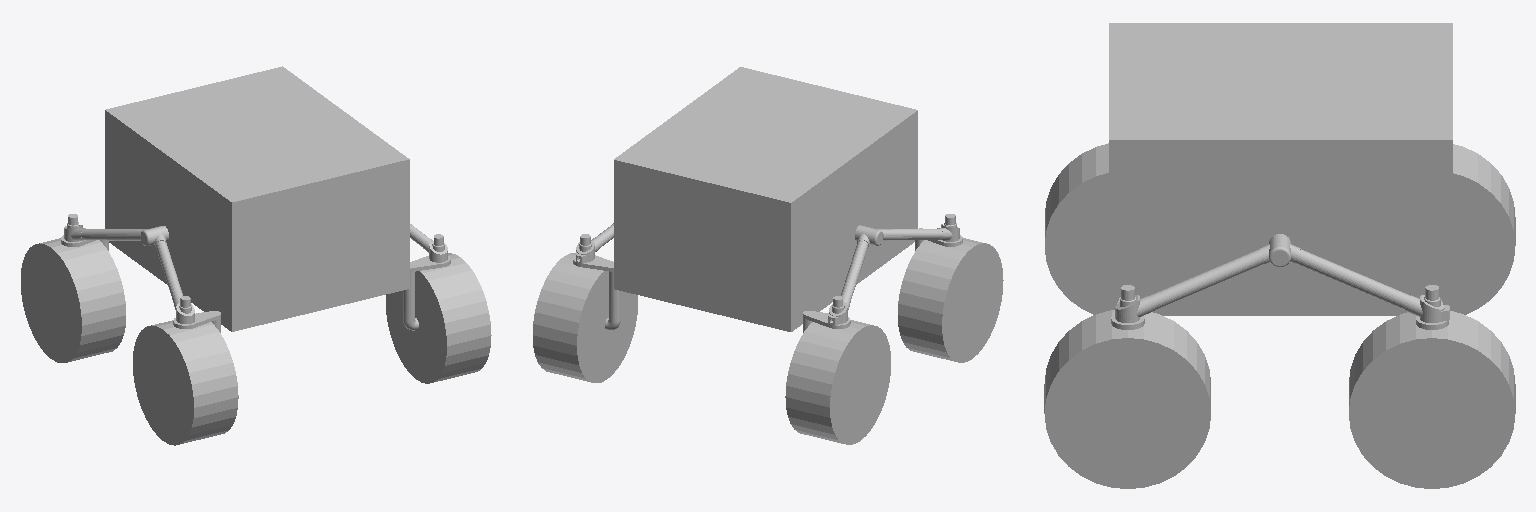
robot.urdf — rover:
<?xml version='1.0'?>
<robot name="rover" version="1.0">
  <joint name="Back Left Wheel Connection_link_joint" type="continuous">
    <limit lower="0" upper="0" effort="0.000000" velocity="0.000000"/>
    <origin rpy="-0.000000 1.570796 0.000000" xyz="-0.040213 0.277630 -0.040843"/>
    <parent link="Left_Rocker_link"/>
    <child link="Back_Left_Wheel_Connection_link"/>
    <axis xyz="0.000000 0.000000 1.000000"/>
  </joint>
  <joint name="Back Left Wheel_link_joint" type="continuous">
    <limit lower="0" upper="0" effort="0.000000" velocity="0.000000"/>
    <origin rpy="0.000000 -1.570796 0.000000" xyz="-0.000277 -0.000140 -0.224216"/>
    <parent link="Back_Left_Wheel_Connection_link"/>
    <child link="Back_Left_Wheel_link"/>
    <axis xyz="0.000000 0.000000 1.000000"/>
  </joint>
  <joint name="Back Right Wheel_link_joint" type="continuous">
    <limit lower="0" upper="0" effort="0.000000" velocity="0.000000"/>
    <origin rpy="0.000000 -1.570796 0.000000" xyz="-0.001001 -0.000072 -0.224364"/>
    <parent link="Back_right_Wheel_Connection_link"/>
    <child link="Back_Right_Wheel_link"/>
    <axis xyz="0.000000 0.000000 1.000000"/>
  </joint>
  <joint name="Back right Wheel Connection_link_joint" type="continuous">
    <limit lower="0" upper="0" effort="0.000000" velocity="0.000000"/>
    <origin rpy="-0.000000 1.570796 0.000000" xyz="-0.039199 0.277668 0.039794"/>
    <parent link="Right_Rocker_link"/>
    <child link="Back_right_Wheel_Connection_link"/>
    <axis xyz="0.000000 0.000000 1.000000"/>
  </joint>
  <joint name="Front Left Wheel Connection_link_joint" type="continuous">
    <limit lower="0" upper="0" effort="0.000000" velocity="0.000000"/>
    <origin rpy="-0.000000 1.570796 0.000000" xyz="-0.040213 -0.279250 -0.041051"/>
    <parent link="Left_Rocker_link"/>
    <child link="Front_Left_Wheel_Connection_link"/>
    <axis xyz="0.000000 0.000000 1.000000"/>
  </joint>
  <joint name="Front Left Wheel_link_joint" type="continuous">
    <limit lower="0" upper="0" effort="0.000000" velocity="0.000000"/>
    <origin rpy="0.000000 -1.570796 0.000000" xyz="-0.000405 0.000234 -0.224593"/>
    <parent link="Front_Left_Wheel_Connection_link"/>
    <child link="Front_Left_Wheel_link"/>
    <axis xyz="0.000000 0.000000 1.000000"/>
  </joint>
  <joint name="Front Right Wheel Connection_link_joint" type="continuous">
    <limit lower="0" upper="0" effort="0.000000" velocity="0.000000"/>
    <origin rpy="-0.000000 1.570796 0.000000" xyz="-0.039199 -0.279811 0.039779"/>
    <parent link="Right_Rocker_link"/>
    <child link="Front_Right_Wheel_Connection_link"/>
    <axis xyz="0.000000 0.000000 1.000000"/>
  </joint>
  <joint name="Front Right Wheel_link_joint" type="continuous">
    <limit lower="0" upper="0" effort="0.000000" velocity="0.000000"/>
    <origin rpy="-0.000000 -1.570796 0.000000" xyz="-0.001015 0.000984 -0.224364"/>
    <parent link="Front_Right_Wheel_Connection_link"/>
    <child link="Front_Right_Wheel_link"/>
    <axis xyz="0.000000 0.000000 1.000000"/>
  </joint>
  <joint name="Left Rocker_link_joint" type="revolute">
    <limit lower="-1.000000" upper="1.000000" effort="0.000000" velocity="0.000000"/>
    <origin rpy="0.000000 -1.570796 0.000000" xyz="0.316939 0.035009 -0.031693"/>
    <parent link="Chassis_link"/>
    <child link="Left_Rocker_link"/>
    <axis xyz="0.000000 0.000000 1.000000"/>
  </joint>
  <joint name="Right Rocker_link_joint" type="revolute">
    <limit lower="-1.000000" upper="1.000000" effort="0.000000" velocity="0.000000"/>
    <origin rpy="0.000000 -1.570796 0.000000" xyz="-0.326391 0.034904 -0.032707"/>
    <parent link="Chassis_link"/>
    <child link="Right_Rocker_link"/>
    <axis xyz="0.000000 0.000000 1.000000"/>
  </joint>
  <link name="Back_Left_Wheel_Connection_link">
    <collision name="Back Left Wheel Connection_collision">
      <origin rpy="0.000000 0.000000 0.000000" xyz="-0.000000 -0.000000 1.0"/>
      <geometry>
        <mesh filename="package://rover/meshes/dae/rover_assm.263.dae" scale="0.001020 0.001020 0.001020"/>
      </geometry>
    </collision>
    <inertial>
      <inertia ixx="0.007968" ixy="0.000000" ixz="0.000000" iyy="0.006673" iyz="-0.002185" izz="0.001483"/>
      <origin rpy="0.000000 0.000000 0.000000" xyz="-0.034999 -0.000141 0.919248"/>
      <mass value="1.000000"/>
    </inertial>
    <visual name="Back Left Wheel Connection">
      <origin rpy="0.000000 0.000000 0.000000" xyz="0.000000 -0.000000 1.0"/>
      <material name="RockerMat"/>
      <geometry>
        <mesh filename="package://rover/meshes/dae/rover_assm.266.dae" scale="0.001020 0.001020 0.001020"/>
      </geometry>
    </visual>
  </link>
  <link name="Back_Left_Wheel_link">
    <collision name="Back Left Wheel_collision">
      <origin rpy="-3.141593 -0.000000 -3.141593" xyz="0.999851 -0.000000 -0.000229"/>
      <geometry>
        <cylinder radius="0.152590" length="0.127483"/>
      </geometry>
    </collision>
    <visual name="Back Left Wheel">
      <origin rpy="-3.141593 -0.000000 -3.141593" xyz="0.999851 -0.000000 -0.000229"/>
      <material name="Dirty Chrome"/>
      <geometry>
        <cylinder radius="0.152590" length="0.127483"/>
      </geometry>
    </visual>
  </link>
  <link name="Back_Right_Wheel_link">
    <collision name="Back Right Wheel_collision">
      <origin rpy="-3.141593 -0.000000 -3.141593" xyz="1.0 0.000000 0.000000"/>
      <geometry>
        <cylinder radius="0.152590" length="0.127483"/>
      </geometry>
    </collision>
    <visual name="Back Right Wheel">
      <origin rpy="-3.141593 -0.000000 -3.141593" xyz="1.0 0.000000 -0.000000"/>
      <material name="Dirty Chrome"/>
      <geometry>
        <cylinder radius="0.152590" length="0.127483"/>
      </geometry>
    </visual>
  </link>
  <link name="Back_right_Wheel_Connection_link">
    <collision name="Back right Wheel Connection_collision">
      <origin rpy="0.000000 0.000000 0.000000" xyz="-0.000000 0.000000 1.0"/>
      <geometry>
        <mesh filename="package://rover/meshes/dae/rover_assm.273.dae" scale="0.001020 0.001020 0.001020"/>
      </geometry>
    </collision>
    <inertial>
      <inertia ixx="0.007971" ixy="0.000000" ixz="-0.000000" iyy="0.006675" iyz="0.002187" izz="0.001484"/>
      <origin rpy="0.000000 0.000000 0.000000" xyz="0.033951 -0.000071 0.919248"/>
      <mass value="1.000000"/>
    </inertial>
    <visual name="Back right Wheel Connection">
      <origin rpy="0.000000 0.000000 0.000000" xyz="0.000000 -0.000000 1.0"/>
      <material name="RockerMat"/>
      <geometry>
        <mesh filename="package://rover/meshes/dae/rover_assm.272.dae" scale="0.001020 0.001020 0.001020"/>
      </geometry>
    </visual>
  </link>
  <link name="Chassis_link">
    <collision name="Chassis_collision">
      <origin rpy="0.000000 0.000000 -0.000000" xyz="-0.000000 0.036421 1.0"/>
      <geometry>
        <box size="0.509469 0.629976 0.354739"/>
      </geometry>
    </collision>
    <inertial>
      <inertia ixx="0.045943" ixy="-0.000000" ixz="0.000000" iyy="0.064649" iyz="0.000000" izz="0.064499"/>
      <origin rpy="0.000000 0.000000 0.000000" xyz="0.000000 0.000000 1.0"/>
      <mass value="1.000000"/>
    </inertial>
    <visual name="Chassis">
      <origin rpy="0.000000 0.000000 0.000000" xyz="0.000000 0.036421 1.0"/>
      <material name="MLI Foil for Chassis"/>
      <geometry>
        <box size="0.509469 0.629976 0.354739"/>
      </geometry>
    </visual>
  </link>
  <link name="Front_Left_Wheel_Connection_link">
    <collision name="Front Left Wheel Connection_collision">
      <origin rpy="0.000000 0.000000 0.000000" xyz="0.000000 -0.000000 1.0"/>
      <geometry>
        <mesh filename="package://rover/meshes/dae/rover_assm.266.dae" scale="0.001020 0.001020 0.001020"/>
      </geometry>
    </collision>
    <inertial>
      <inertia ixx="0.007968" ixy="0.000000" ixz="0.000000" iyy="0.006673" iyz="-0.002185" izz="0.001483"/>
      <origin rpy="0.000000 0.000000 0.000000" xyz="-0.035207 0.000317 0.919248"/>
      <mass value="1.000000"/>
    </inertial>
    <visual name="Front Left Wheel Connection">
      <origin rpy="0.000000 0.000000 0.000000" xyz="0.000000 -0.000000 1.0"/>
      <material name="RockerMat"/>
      <geometry>
        <mesh filename="package://rover/meshes/dae/rover_assm.266.dae" scale="0.001020 0.001020 0.001020"/>
      </geometry>
    </visual>
  </link>
  <link name="Front_Left_Wheel_link">
    <collision name="Front Left Wheel_collision">
      <origin rpy="-3.141593 -0.000000 -3.141593" xyz="1.000149 -0.000000 0.000229"/>
      <geometry>
        <cylinder radius="0.152957" length="0.127790"/>
      </geometry>
    </collision>
    <inertial>
      <inertia ixx="0.008751" ixy="-0.000000" ixz="0.000000" iyy="0.008751" iyz="0.000000" izz="0.002031"/>
      <origin rpy="0.000000 0.000000 0.000000" xyz="1.000149 -0.000000 0.000229"/>
      <mass value="1.000000"/>
    </inertial>
    <visual name="Front Left Wheel">
      <origin rpy="-3.141593 -0.000000 -3.141593" xyz="1.000149 -0.000000 0.000229"/>
      <material name="Dirty Chrome"/>
      <geometry>
        <cylinder radius="0.152590" length="0.127483"/>
      </geometry>
    </visual>
  </link>
  <link name="Front_Right_Wheel_Connection_link">
    <collision name="Front Right Wheel Connection_collision">
      <origin rpy="0.000000 0.000000 0.000000" xyz="0.000000 -0.000000 1.0"/>
      <geometry>
        <mesh filename="package://rover/meshes/dae/rover_assm.272.dae" scale="0.001020 0.001020 0.001020"/>
      </geometry>
    </collision>
    <inertial>
      <inertia ixx="0.007971" ixy="0.000000" ixz="-0.000000" iyy="0.006675" iyz="0.002187" izz="0.001484"/>
      <origin rpy="0.000000 0.000000 0.000000" xyz="0.033936 0.000985 0.919248"/>
      <mass value="1.000000"/>
    </inertial>
    <visual name="Front Right Wheel Connection">
      <origin rpy="0.000000 0.000000 -0.000000" xyz="0.000000 -0.000000 1.0"/>
      <material name="RockerMat"/>
      <geometry>
        <mesh filename="package://rover/meshes/dae/rover_assm.272.dae" scale="0.001020 0.001020 0.001020"/>
      </geometry>
    </visual>
  </link>
  <link name="Front_Right_Wheel_link">
    <collision name="Front Right Wheel_collision">
      <origin rpy="0.000000 -0.000000 -0.000000" xyz="0.998846 -0.000002 -0.000037"/>
      <geometry>
        <cylinder radius="0.151841" length="0.126857"/>
      </geometry>
    </collision>
    <inertial>
      <inertia ixx="0.008751" ixy="0.000000" ixz="0.000000" iyy="0.008751" iyz="-0.000000" izz="0.002031"/>
      <origin rpy="0.000000 0.000000 0.000000" xyz="1.0 -0.000000 0.000000"/>
      <mass value="1.000000"/>
    </inertial>
    <visual name="Front Right Wheel">
      <origin rpy="-3.141593 -0.000000 -3.141593" xyz="1.0 -0.000000 0.000000"/>
      <material name="Dirty Chrome"/>
      <geometry>
        <cylinder radius="0.152590" length="0.127483"/>
      </geometry>
    </visual>
  </link>
  <link name="Left_Rocker_link">
    <collision name="Left Rocker_collision">
      <origin rpy="-0.000000 1.570796 0.000000" xyz="1.0 -0.000000 0.000000"/>
      <geometry>
        <mesh filename="package://rover/meshes/dae/rover_assm.277.dae" scale="0.001020 0.001020 0.001020"/>
      </geometry>
    </collision>
    <inertial>
      <inertia ixx="0.001331" ixy="-0.000094" ixz="0.000210" iyy="0.031629" iyz="0.000565" izz="0.031481"/>
      <origin rpy="0.000000 0.000000 0.000000" xyz="0.957747 0.002366 -0.001819"/>
      <mass value="1.000000"/>
    </inertial>
    <visual name="Left Rocker">
      <origin rpy="-0.000000 1.570796 0.000000" xyz="1.0 -0.000000 0.000000"/>
      <material name="RockerMat"/>
      <geometry>
        <mesh filename="package://rover/meshes/dae/rover_assm.277.dae" scale="0.001020 0.001020 0.001020"/>
      </geometry>
    </visual>
  </link>
  <link name="Right_Rocker_link">
    <collision name="Right Rocker_collision">
      <origin rpy="0.000000 1.570796 0.000000" xyz="1.0 0.000000 -0.000000"/>
      <geometry>
        <mesh filename="package://rover/meshes/dae/rover_assm.267.dae" scale="0.001020 0.001020 0.001020"/>
      </geometry>
    </collision>
    <inertial>
      <inertia ixx="0.001330" ixy="0.000096" ixz="0.000215" iyy="0.031632" iyz="-0.000565" izz="0.031485"/>
      <origin rpy="0.000000 0.000000 0.000000" xyz="0.958761 0.002470 0.001819"/>
      <mass value="1.000000"/>
    </inertial>
    <visual name="Right Rocker">
      <origin rpy="-0.000000 1.570796 0.000000" xyz="1.0 0.000000 -0.000000"/>
      <material name="RockerMat"/>
      <geometry>
        <mesh filename="package://rover/meshes/dae/rover_assm.267.dae" scale="0.001020 0.001020 0.001020"/>
      </geometry>
    </visual>
  </link>
  <material name="Dirty Chrome">
    <color rgba="0.800000 0.800000 0.800000 1.000000"/>
  </material>
  <material name="MLI Foil for Chassis">
    <color rgba="0.800000 0.800000 0.800000 1.000000"/>
  </material>
  <material name="RockerMat">
    <color rgba="0.800000 0.800000 0.800000 1.000000"/>
  </material>
</robot>

--- Render facts (derived) ---
3 views of the same robot in one strip: view 1: azimuth 30°, elevation 25°; view 2: azimuth 150°, elevation 25°; view 3: azimuth 270°, elevation 25° (orthographic).
Model rover with 11 links and 10 joints (2 revolute, 8 continuous), rooted at Chassis_link, posed all joints at 0.
Links seen in each view (by area): view 1: Chassis_link, Front_Right_Wheel_link, Back_Right_Wheel_link, Front_Left_Wheel_link, Right_Rocker_link, Front_Left_Wheel_Connection_link, Front_Right_Wheel_Connection_link, Left_Rocker_link; view 2: Chassis_link, Front_Right_Wheel_link, Back_Right_Wheel_link, Back_Left_Wheel_link, Right_Rocker_link, Back_Left_Wheel_Connection_link, Back_right_Wheel_Connection_link, Left_Rocker_link; view 3: Chassis_link, Front_Left_Wheel_link, Back_Left_Wheel_link, Front_Right_Wheel_link, Back_Right_Wheel_link, Left_Rocker_link, Front_Left_Wheel_Connection_link, Back_Left_Wheel_Connection_link.
Link boxes in pixels (bbox=[...]): Chassis_link: bbox=[105, 66, 409, 331]; Front_Right_Wheel_link: bbox=[133, 320, 238, 445]; Back_Right_Wheel_link: bbox=[21, 238, 125, 362]; Front_Left_Wheel_link: bbox=[386, 253, 491, 383]; Right_Rocker_link: bbox=[64, 225, 194, 323]; Front_Left_Wheel_Connection_link: bbox=[403, 234, 450, 330]; Front_Right_Wheel_Connection_link: bbox=[173, 296, 220, 332]; Left_Rocker_link: bbox=[410, 224, 447, 262]; Chassis_link: bbox=[614, 67, 917, 331]; Front_Right_Wheel_link: bbox=[898, 238, 1003, 362]; Back_Right_Wheel_link: bbox=[785, 320, 890, 444]; Back_Left_Wheel_link: bbox=[533, 253, 637, 382]; Right_Rocker_link: bbox=[828, 224, 959, 325]; Back_Left_Wheel_Connection_link: bbox=[573, 234, 620, 329]; Back_right_Wheel_Connection_link: bbox=[803, 296, 850, 332]; Left_Rocker_link: bbox=[576, 223, 613, 263]; Chassis_link: bbox=[1109, 23, 1452, 315]; Front_Left_Wheel_link: bbox=[1044, 310, 1210, 488]; Back_Left_Wheel_link: bbox=[1349, 311, 1515, 488]; Front_Right_Wheel_link: bbox=[1045, 143, 1108, 314]; Back_Right_Wheel_link: bbox=[1453, 144, 1515, 314]; Left_Rocker_link: bbox=[1115, 234, 1449, 322]; Front_Left_Wheel_Connection_link: bbox=[1111, 285, 1144, 329]; Back_Left_Wheel_Connection_link: bbox=[1416, 285, 1448, 329].
Bounding box of the posed robot: 0.8524 × 0.8617 × 0.6263 m (x, y, z).
6 mesh visuals loaded from 4 distinct referenced files (4 Collada DAE).